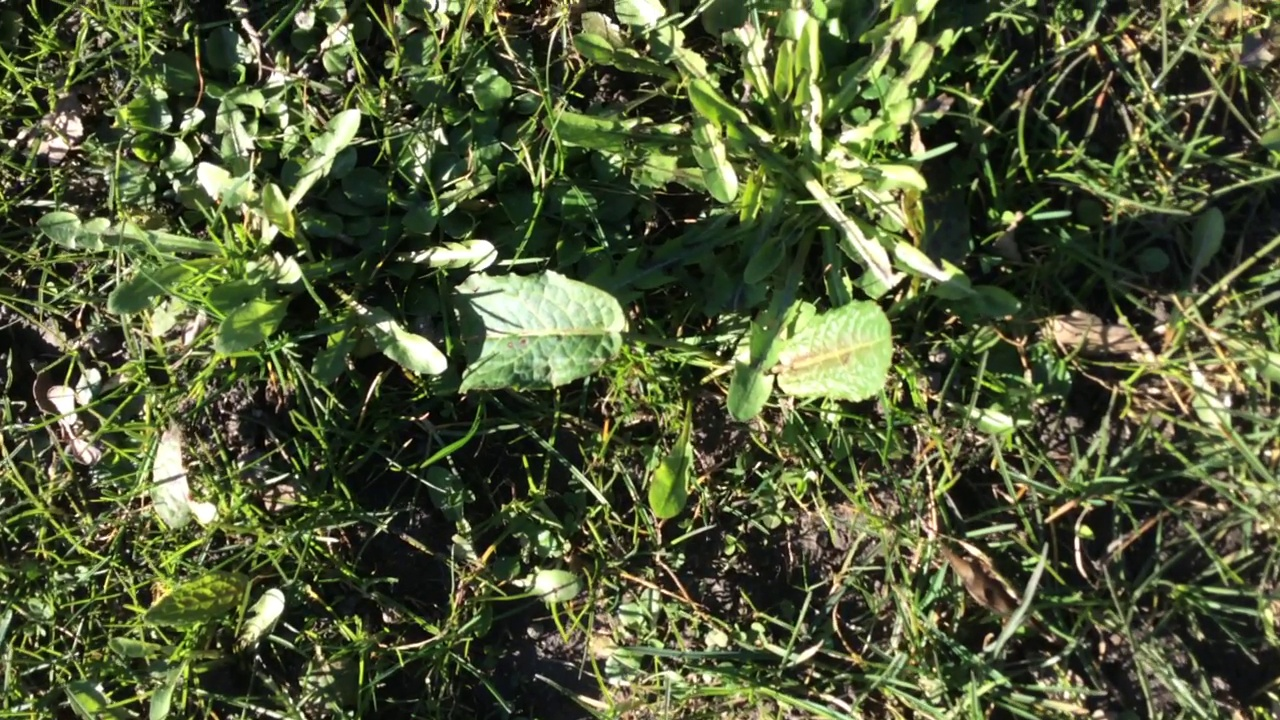rumex: (423, 270, 626, 390), (766, 300, 894, 399)
